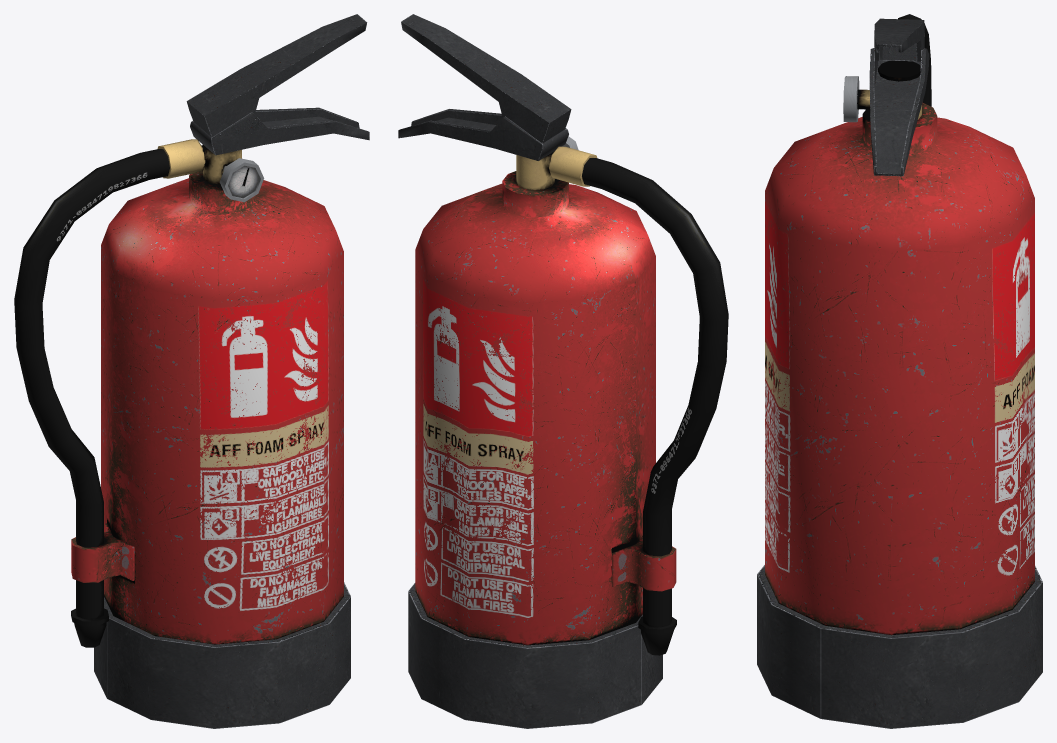
3 renders of one model, left to right at view 1: azimuth 30°, elevation 25°; view 2: azimuth 150°, elevation 25°; view 3: azimuth 270°, elevation 25°, orthographic. The views are drawn at different scales.
Visible parts, largest first — view 1: main-cylinder, holder; view 2: main-cylinder, holder; view 3: main-cylinder, holder.
Boxes of the visible parts, left/top/right/bottom form: main-cylinder: left=14, top=139, right=343, bottom=647; holder: left=94, top=14, right=369, bottom=728; main-cylinder: left=415, top=136, right=728, bottom=655; holder: left=398, top=14, right=662, bottom=728; main-cylinder: left=765, top=14, right=1034, bottom=635; holder: left=757, top=18, right=1042, bottom=728.
Size of the model in its own units: 0.8382 by 1.49 by 0.5532.
